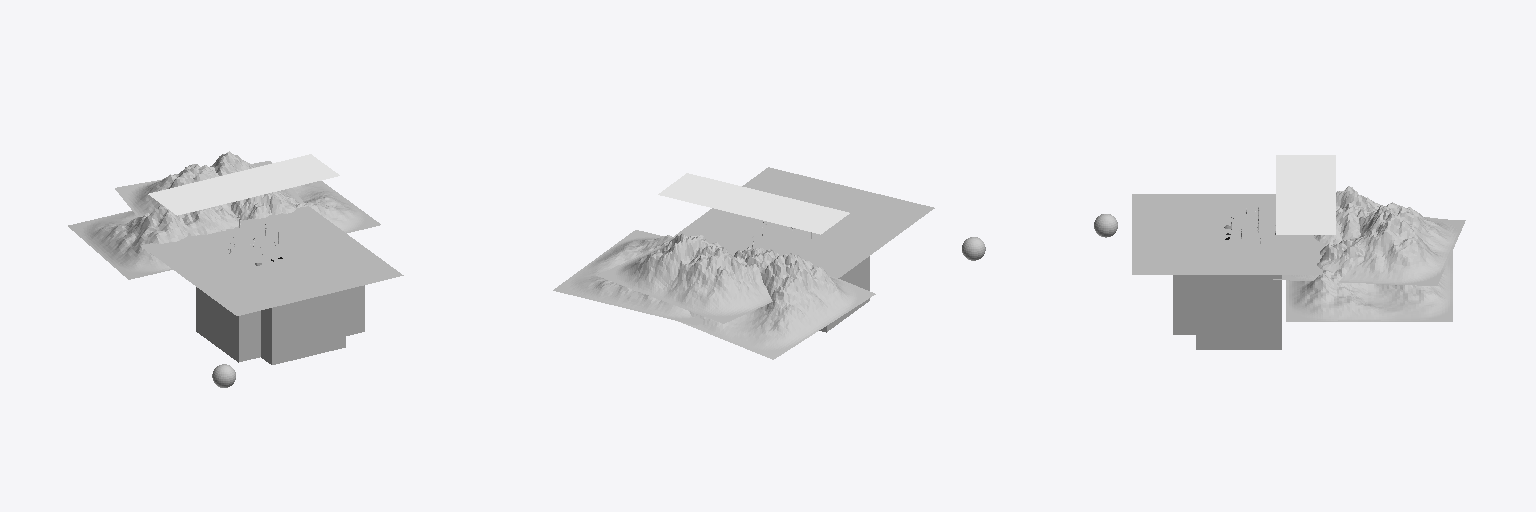
The model's file is salju.obj.
The picture shows the model from 3 angles: view 1: azimuth 30°, elevation 25°; view 2: azimuth 150°, elevation 25°; view 3: azimuth 270°, elevation 25°; orthographic projection.
Visible parts, largest first — view 1: Plane, Landscape, Cube.003, Plane.001, Landscape.001, Cube, Landscape.002, Cube.001; view 2: Plane, Landscape, Landscape.002, Plane.001, Landscape.001, Cube; view 3: Plane, Landscape.001, Landscape.002, Cube.001, Plane.001, Landscape, Cube.003.
Boxes of the visible parts, box(x1,y1,x2,y2) form: Plane: box(141, 206, 403, 315); Landscape: box(68, 205, 241, 279); Cube.003: box(261, 290, 345, 364); Plane.001: box(148, 154, 339, 215); Landscape.001: box(231, 181, 380, 233); Cube: box(196, 287, 260, 362); Landscape.002: box(115, 151, 303, 231); Cube.001: box(346, 285, 364, 335); Plane: box(674, 167, 934, 277); Landscape: box(678, 247, 875, 359); Landscape.002: box(596, 233, 772, 323); Plane.001: box(658, 173, 849, 234); Landscape.001: box(553, 230, 732, 325); Cube: box(819, 256, 869, 332); Plane: box(1132, 194, 1324, 274); Landscape.001: box(1286, 238, 1452, 321); Landscape.002: box(1273, 202, 1465, 285); Cube.001: box(1196, 275, 1281, 349); Plane.001: box(1276, 155, 1335, 234); Landscape: box(1313, 186, 1437, 245); Cube.003: box(1173, 275, 1195, 334).
Size of the model in its own units: 24.84 by 11.28 by 30.99.